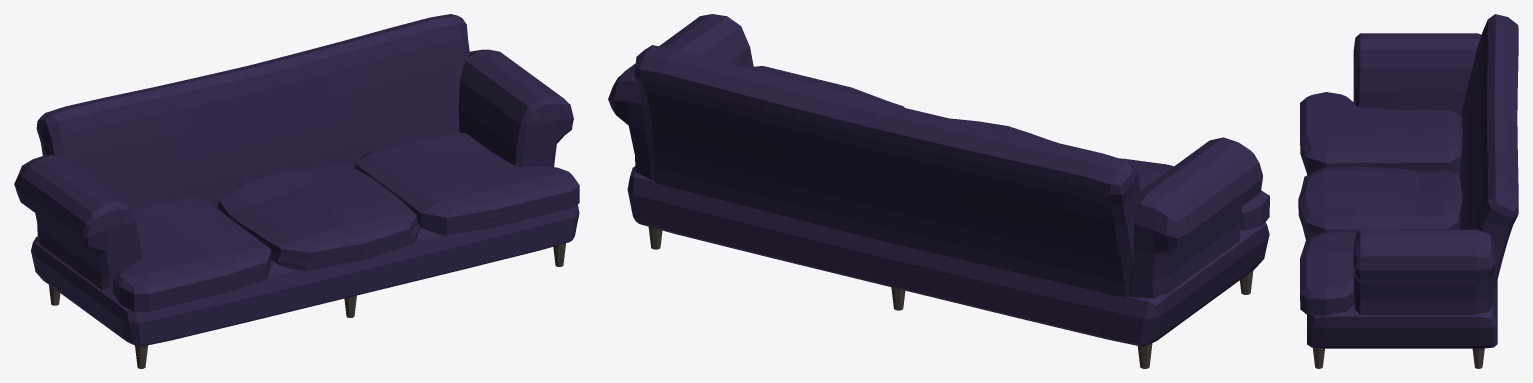
File: Sofa.glb
3 views of the same model, side by side, from view 1: azimuth 30°, elevation 25°; view 2: azimuth 150°, elevation 25°; view 3: azimuth 270°, elevation 25° (orthographic). The views are drawn at different scales.
Visible parts, largest first — view 1: Sofa; view 2: Sofa; view 3: Sofa.
Boxes of the visible parts, left/top/right/bottom form: Sofa: left=14, top=14, right=579, bottom=368; Sofa: left=608, top=14, right=1269, bottom=368; Sofa: left=1298, top=14, right=1518, bottom=368.
Bounding box in the file's own units: 4.24 × 1.51 × 1.78.
